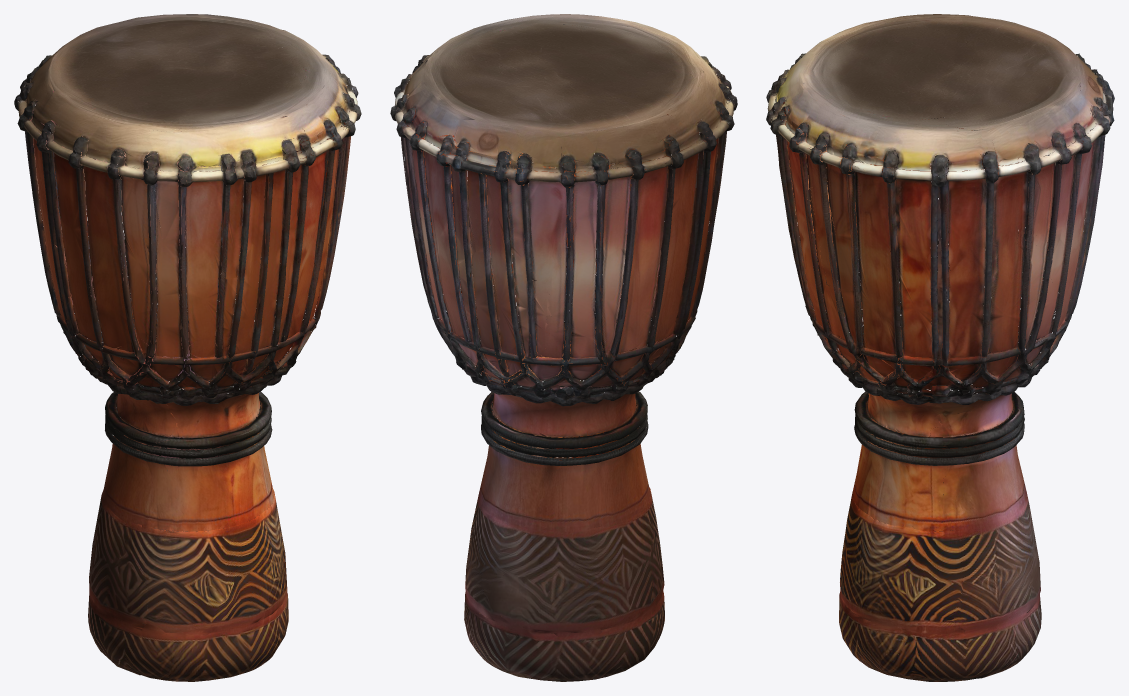
The model's file is drum_optimized_jpeg_fallback.glb.
3 views of the same model, side by side, from view 1: azimuth 30°, elevation 25°; view 2: azimuth 150°, elevation 25°; view 3: azimuth 270°, elevation 25° (orthographic).
Visible parts, largest first — view 1: model.001; view 2: model.001; view 3: model.001.
Boxes of the visible parts, <box> form: model.001: <box>14,14,361,681</box>; model.001: <box>390,14,737,681</box>; model.001: <box>766,14,1114,681</box>.
Bounding box in the file's own units: 1 × 1.82 × 0.9973.
1 material, 1 textured.
